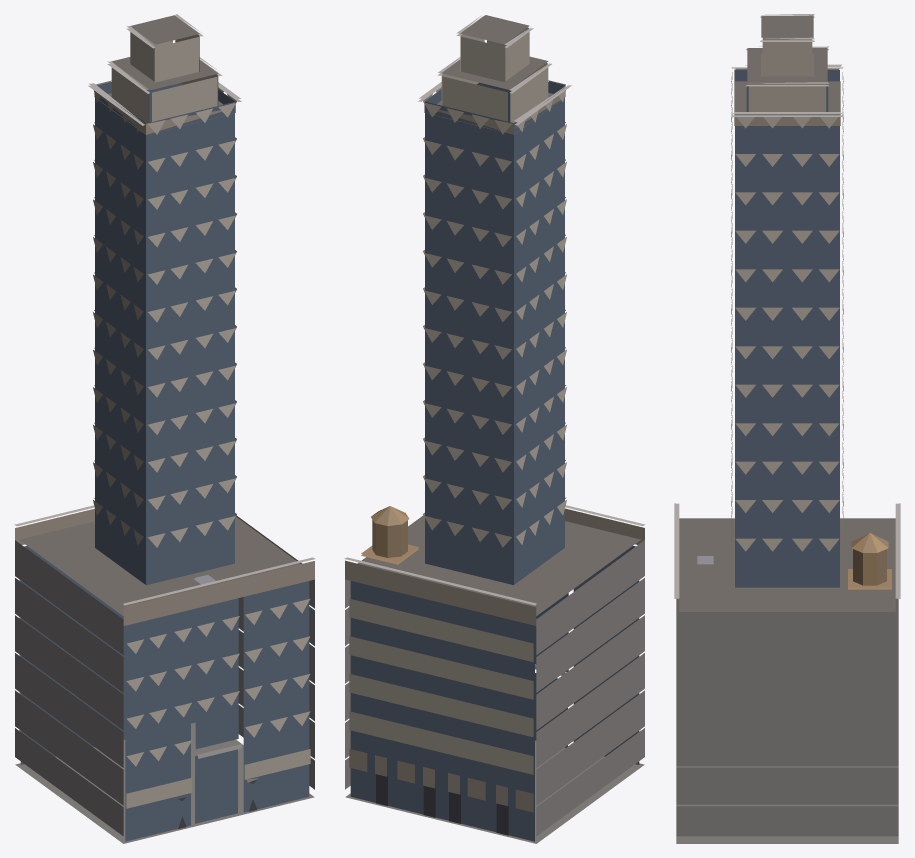
File: city_deco.lod.glb
The picture shows the model from 3 angles, left to right: view 1: azimuth 30°, elevation 25°; view 2: azimuth 150°, elevation 25°; view 3: azimuth 270°, elevation 25°; orthographic projection. The views are drawn at different scales.
Parts seen in each view (by area): view 1: city_deco; view 2: city_deco; view 3: city_deco.
Boxes of the visible parts, x1=… form: city_deco: x1=14, y1=14, x2=315, y2=843; city_deco: x1=344, y1=15, x2=645, y2=843; city_deco: x1=674, y1=14, x2=900, y2=843.
Size of the model in its own units: 18.67 by 70 by 18.67.
